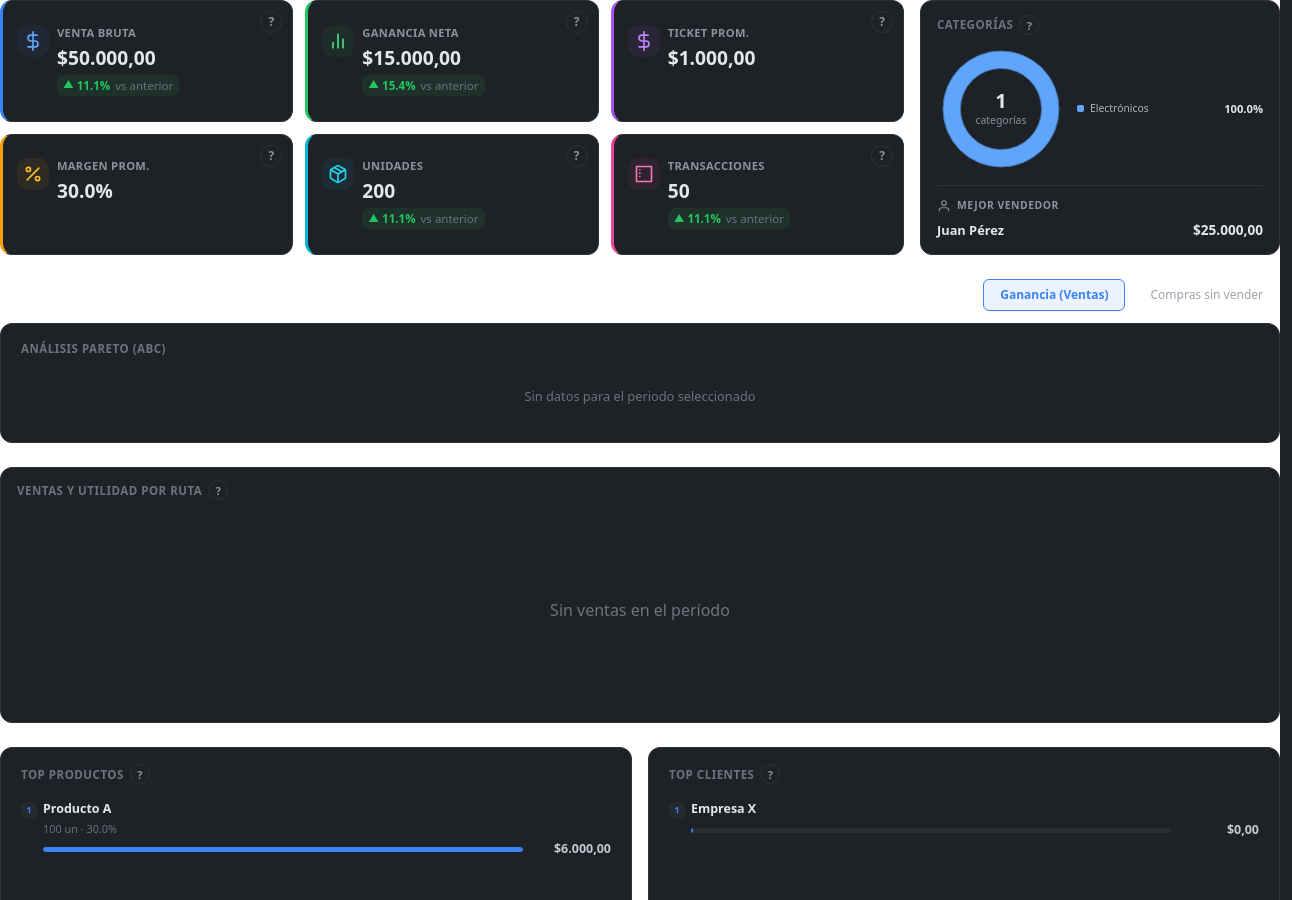
Test: SalesDashboard › usa una cuadrícula compacta y separa al mejor vendedor sin perder comparativas ni ayudas
Expected: the text "Juan Pérez" is shown, [937,221,1004,240]
Expected: the number of elements with class "dashboard-kpi-card" is 6, [0,0,293,122]; [305,0,599,122]; [611,0,904,122]; [0,134,293,255]; [305,134,599,255]; [611,134,904,255]
Step 1. Click the button named "Ayuda sobre Venta Bruta" → {"x": 271, "y": 22}, box [260,11,282,33]
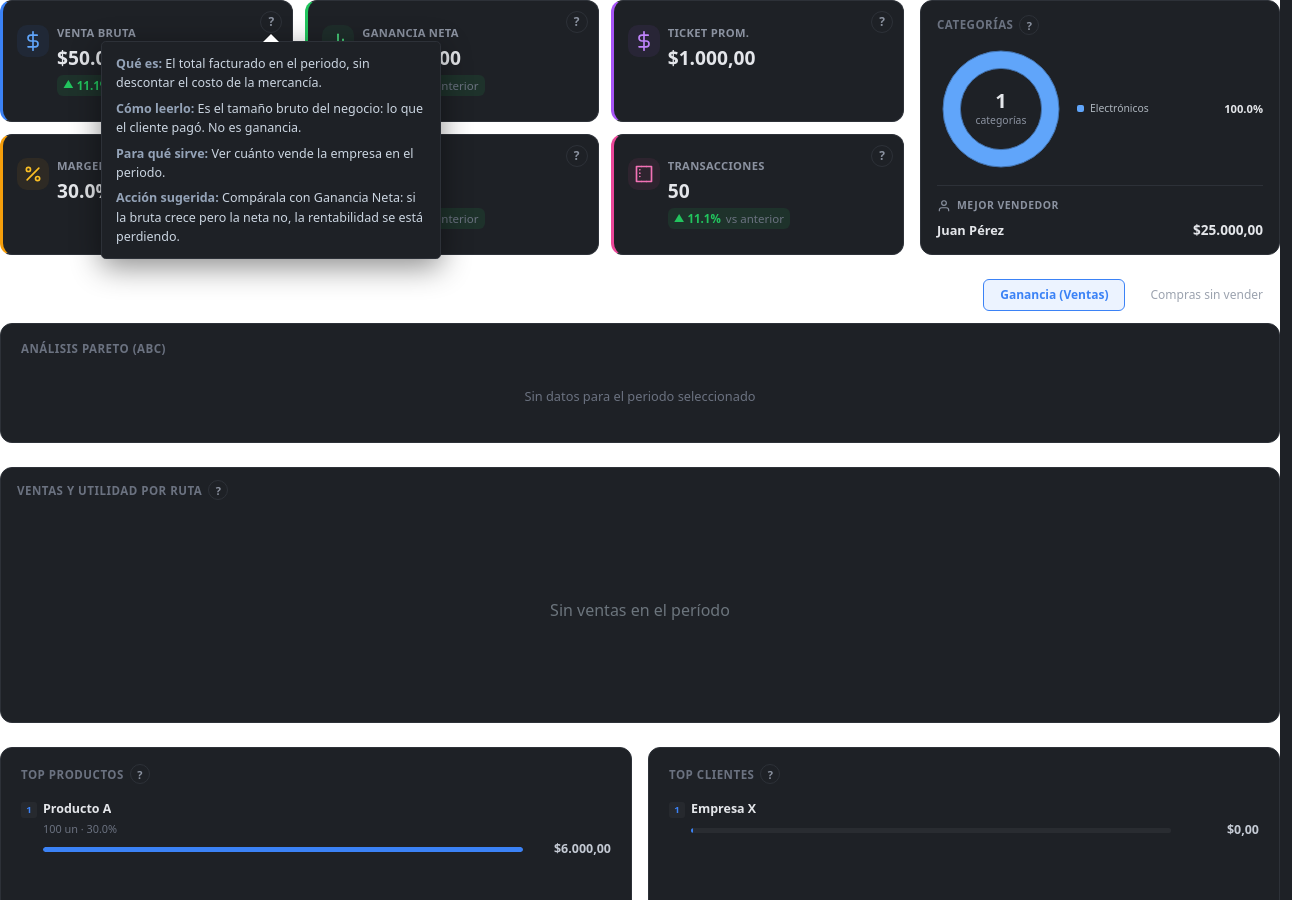
Expected: the text "El total facturado en el periodo" is shown, [116,55,370,91]
